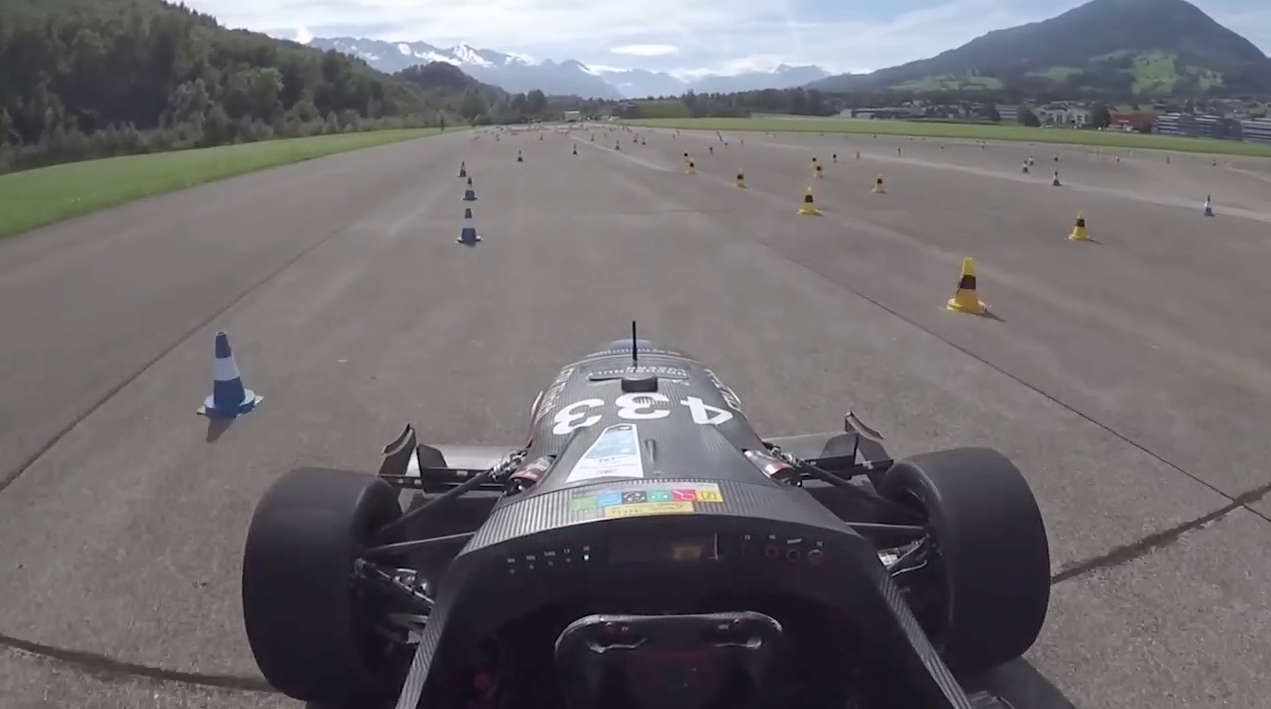lcone: (188, 324, 266, 427), (451, 203, 483, 250), (460, 174, 480, 204)
rcone: (941, 253, 992, 318), (1066, 209, 1095, 245), (794, 181, 820, 220)
